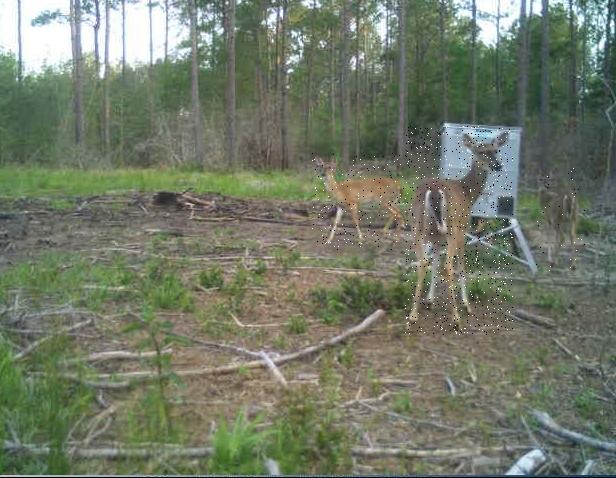Deer: (405, 126, 513, 335), (312, 154, 404, 251), (535, 168, 585, 274)
